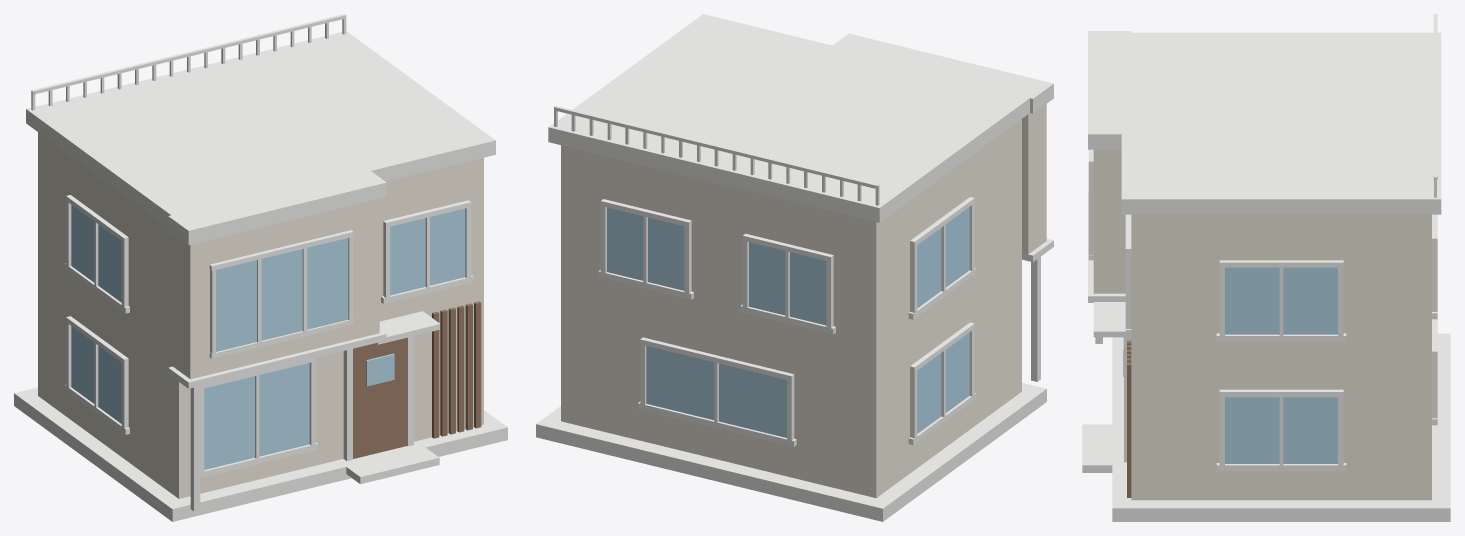
File: rumah_h.fbx
3 views of the same model, side by side, from view 1: azimuth 30°, elevation 25°; view 2: azimuth 150°, elevation 25°; view 3: azimuth 270°, elevation 25° (orthographic). The views are drawn at different scales.
Visible parts, largest first — view 1: ShellTrim, ShellWall, ShellGlass, ShellDoor; view 2: ShellWall, ShellTrim, ShellGlass; view 3: ShellTrim, ShellWall, ShellGlass, ShellDoor.
Part boxes in pixels (x1,y1,x2,y2): ShellTrim: [14, 14, 507, 521]; ShellWall: [38, 132, 483, 498]; ShellGlass: [71, 205, 465, 469]; ShellDoor: [353, 301, 481, 458]; ShellWall: [561, 104, 1046, 497]; ShellTrim: [536, 14, 1053, 521]; ShellGlass: [607, 207, 969, 437]; ShellTrim: [1082, 14, 1450, 521]; ShellWall: [1093, 149, 1431, 500]; ShellGlass: [1123, 267, 1337, 463]; ShellDoor: [1127, 340, 1131, 497].
Bounding box in the file's own units: 22 × 19.9 × 19.6.
